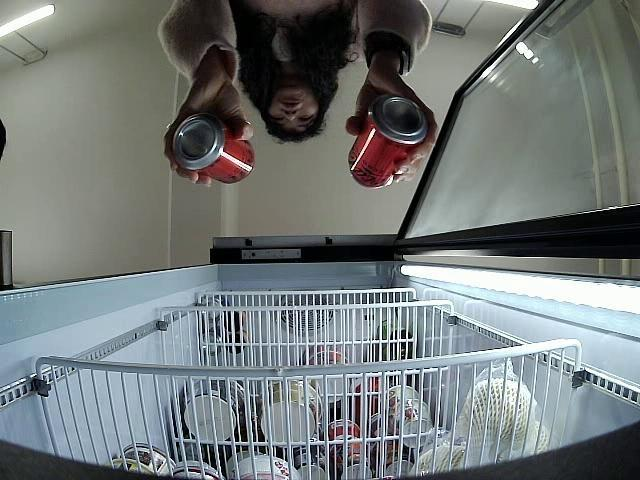11_cocaColaZero: (347, 89, 428, 188), (169, 112, 254, 183)
